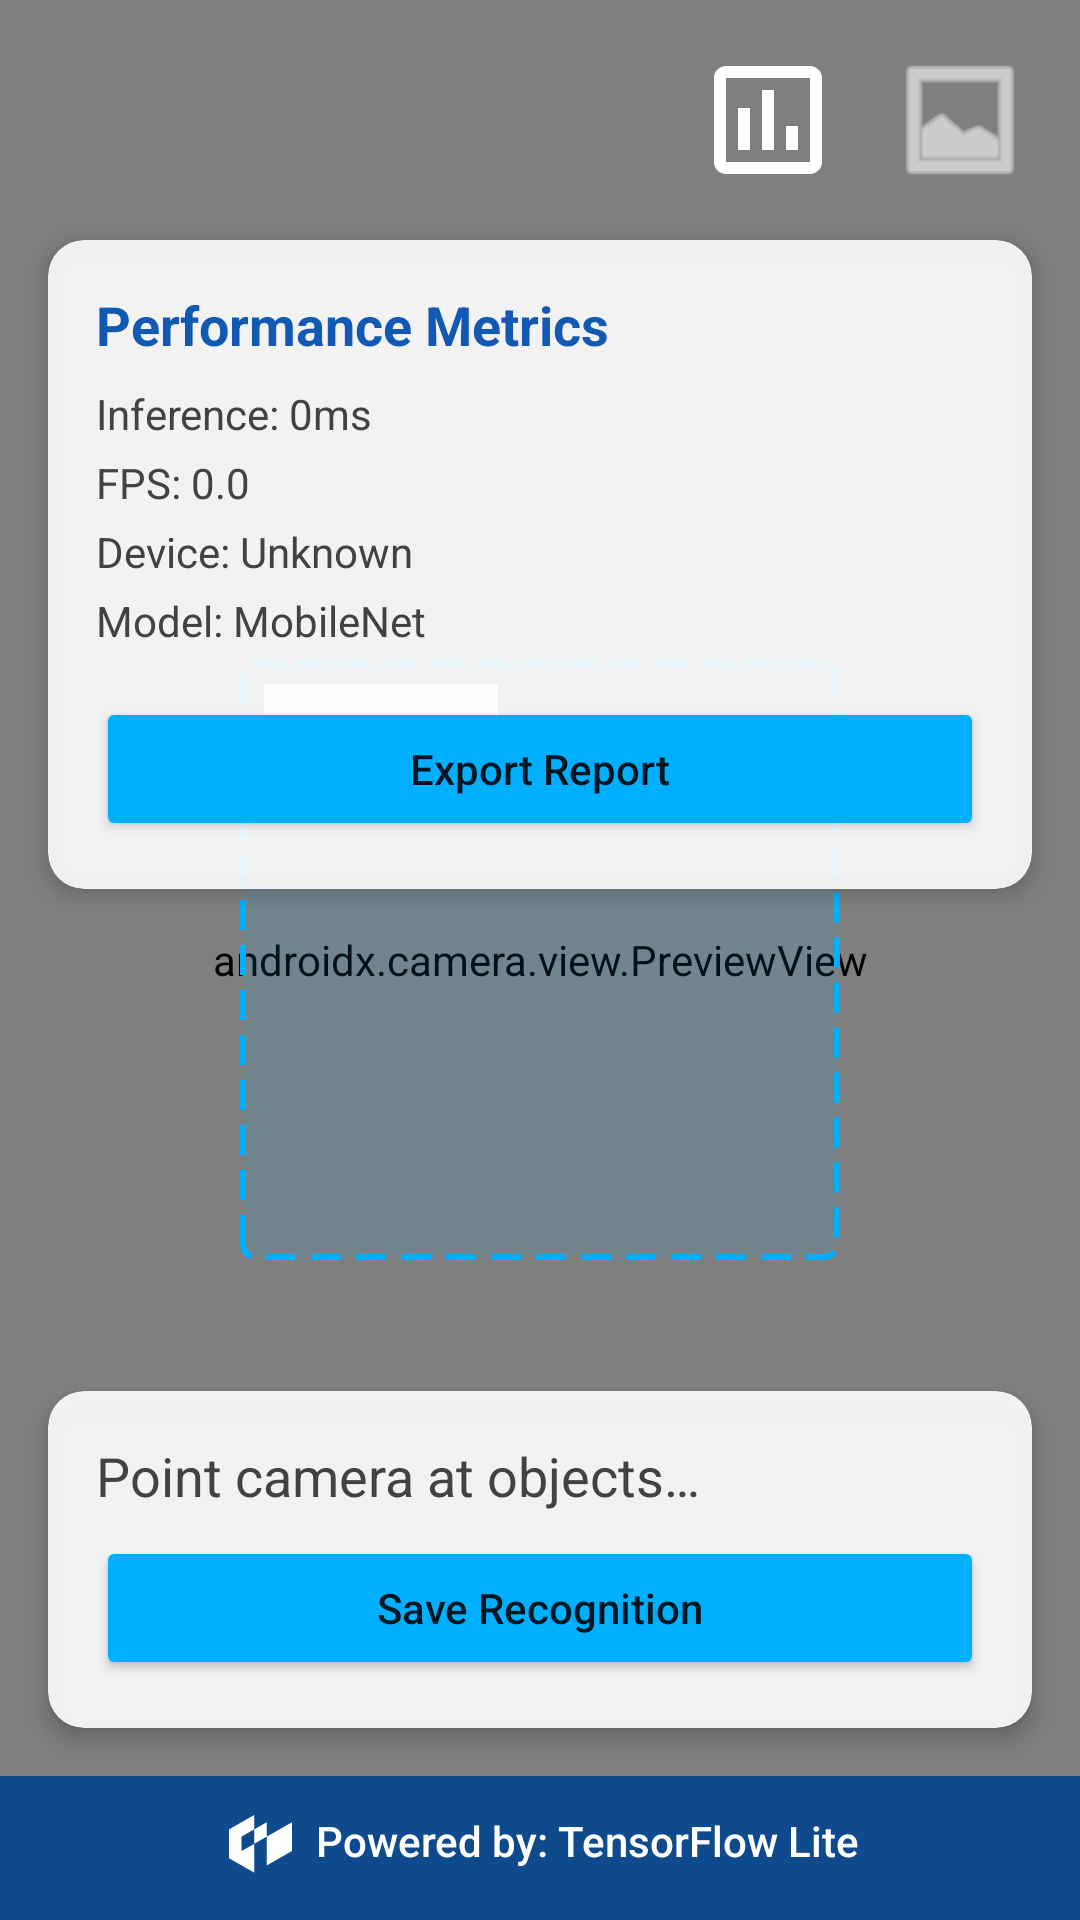

Icon bounding boxes for this 1080*1920 phone screenshot, format [x1=x1, y1=y1, x2=x2, y2=y2]:
View Saved Images: [x1=906, y1=66, x2=1014, y2=174]
